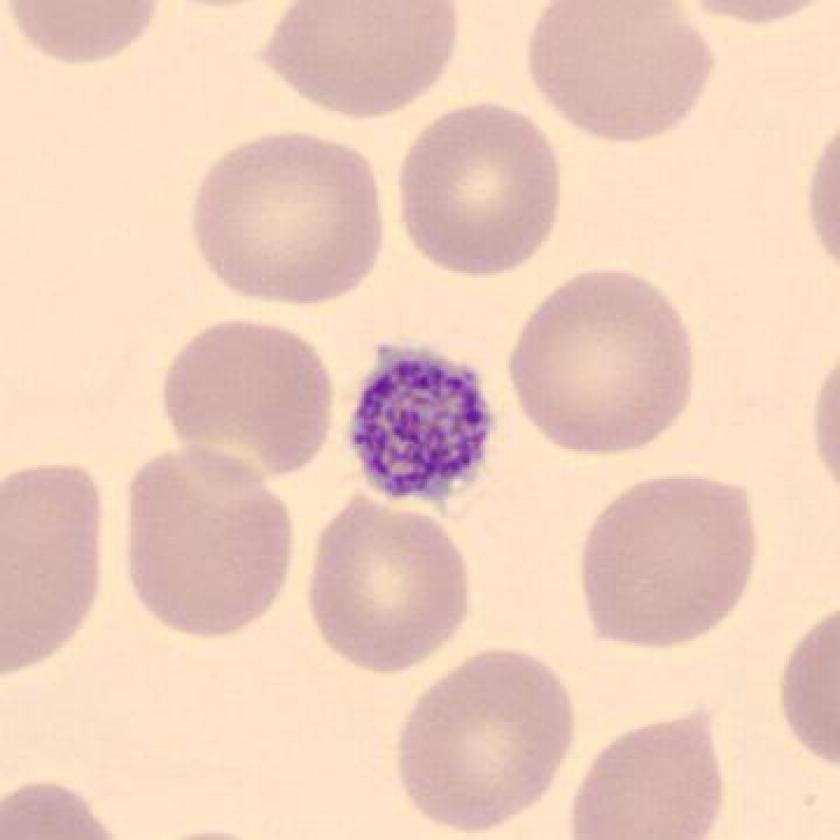platelets: (332, 334, 510, 517)
